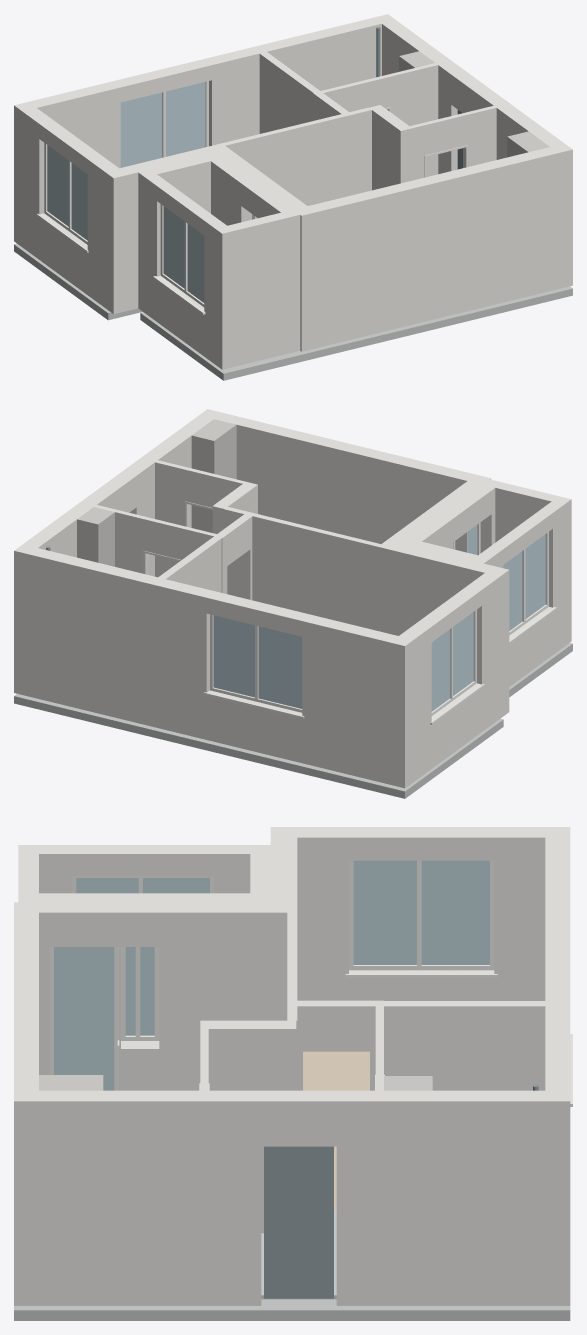
Rendered from apartment.glb.
The picture shows the model from 3 angles, top to bottom: view 1: azimuth 30°, elevation 25°; view 2: azimuth 150°, elevation 25°; view 3: azimuth 270°, elevation 25°; orthographic projection. The views are drawn at different scales.
Visible parts, largest first — view 1: Южная наружная конец, Южная лоджии конец, Северная наружная конец, Между комнатами конец, Южная комнаты 1 наружная конец, Северная наружная простенок 0, Северная наружная окно 0 стекло, Комната 1 — санузел конец, Восточная наружная простенок 0, Западная комнаты 1 простенок 0, Уступ прихожей конец, Плита нижней части (+27 smaller); view 2: Северная наружная конец, Южная наружная конец, Северная наружная простенок 0, Между комнатами конец, Южная комнаты 1 наружная конец, Северная наружная окно 0 стекло, Плита верхней части, Северная наружная под проёмом 0, Южная лоджии конец, Западная комнаты 1 конец, Восточная наружная конец, Западная комнаты 1 простенок 0 (+27 smaller); view 3: Восточная наружная конец, Восточная наружная простенок 0, Комната 2 — лоджия простенок 0, Западная комнаты 1 окно 0 стекло, Комната 1 — санузел конец, Входная дверь условная, Южная наружная конец, Западная комнаты 1 простенок 0, Западная комнаты 1 конец, Северная наружная конец, Балконная дверь стекло, Уступ прихожей конец (+28 smaller).
Boxes of the visible parts, x1=… form: Южная наружная конец: x1=293, y1=143, x2=572, y2=351; Южная лоджии конец: x1=215, y1=210, x2=300, y2=369; Северная наружная конец: x1=204, y1=14, x2=395, y2=146; Между комнатами конец: x1=222, y1=107, x2=371, y2=205; Южная комнаты 1 наружная конец: x1=105, y1=143, x2=224, y2=314; Северная наружная простенок 0: x1=14, y1=81, x2=120, y2=246; Северная наружная окно 0 стекло: x1=120, y1=82, x2=205, y2=167; Комната 1 — санузел конец: x1=259, y1=52, x2=319, y2=133; Восточная наружная простенок 0: x1=382, y1=20, x2=464, y2=174; Западная комнаты 1 простенок 0: x1=22, y1=108, x2=52, y2=259; Уступ прихожей конец: x1=369, y1=105, x2=412, y2=190; Плита нижней части: x1=297, y1=286, x2=572, y2=361; Северная наружная конец: x1=14, y1=544, x2=214, y2=739; Южная наружная конец: x1=199, y1=409, x2=491, y2=543; Северная наружная простенок 0: x1=302, y1=614, x2=413, y2=788; Между комнатами конец: x1=224, y1=507, x2=380, y2=630; Южная комнаты 1 наружная конец: x1=377, y1=540, x2=509, y2=718; Северная наружная окно 0 стекло: x1=213, y1=615, x2=302, y2=708; Плита верхней части: x1=14, y1=693, x2=503, y2=798; Северная наружная под проёмом 0: x1=206, y1=690, x2=302, y2=762; Южная лоджии конец: x1=483, y1=479, x2=571, y2=646; Западная комнаты 1 конец: x1=467, y1=573, x2=499, y2=731; Восточная наружная конец: x1=122, y1=415, x2=213, y2=576; Западная комнаты 1 простенок 0: x1=399, y1=623, x2=431, y2=781; Восточная наружная конец: x1=39, y1=1090, x2=261, y2=1305; Восточная наружная простенок 0: x1=336, y1=1090, x2=545, y2=1305; Комната 2 — лоджия простенок 0: x1=159, y1=893, x2=287, y2=1090; Западная комнаты 1 окно 0 стекло: x1=353, y1=860, x2=489, y2=964; Комната 1 — санузел конец: x1=384, y1=1001, x2=545, y2=1090; Входная дверь условная: x1=264, y1=1146, x2=333, y2=1298; Южная наружная конец: x1=14, y1=902, x2=38, y2=1305; Западная комнаты 1 простенок 0: x1=494, y1=827, x2=545, y2=1000; Западная комнаты 1 конец: x1=297, y1=827, x2=348, y2=1000; Северная наружная конец: x1=545, y1=966, x2=570, y2=1305; Балконная дверь стекло: x1=54, y1=947, x2=114, y2=1090; Уступ прихожей конец: x1=200, y1=1020, x2=296, y2=1233.
Size of the model in its own units: 7.8 by 2.9 by 6.69.
